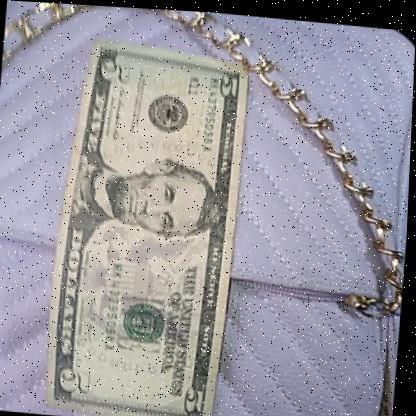five-front: (48, 31, 257, 416)
